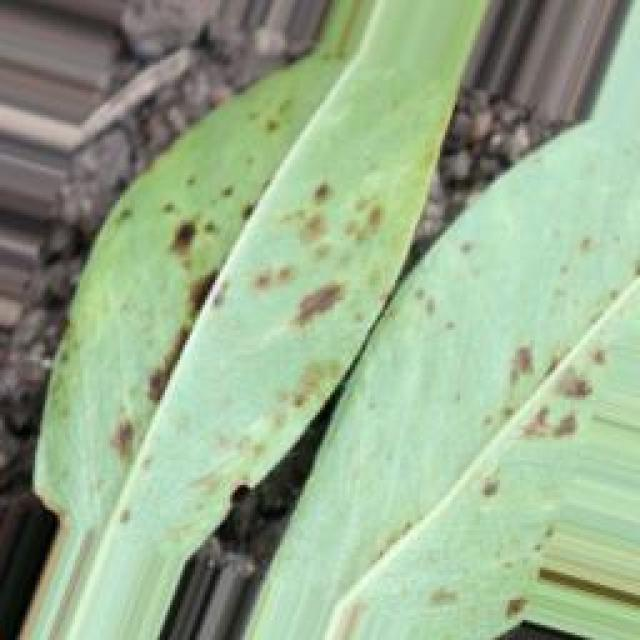Whitefly: (33, 98, 622, 625)
